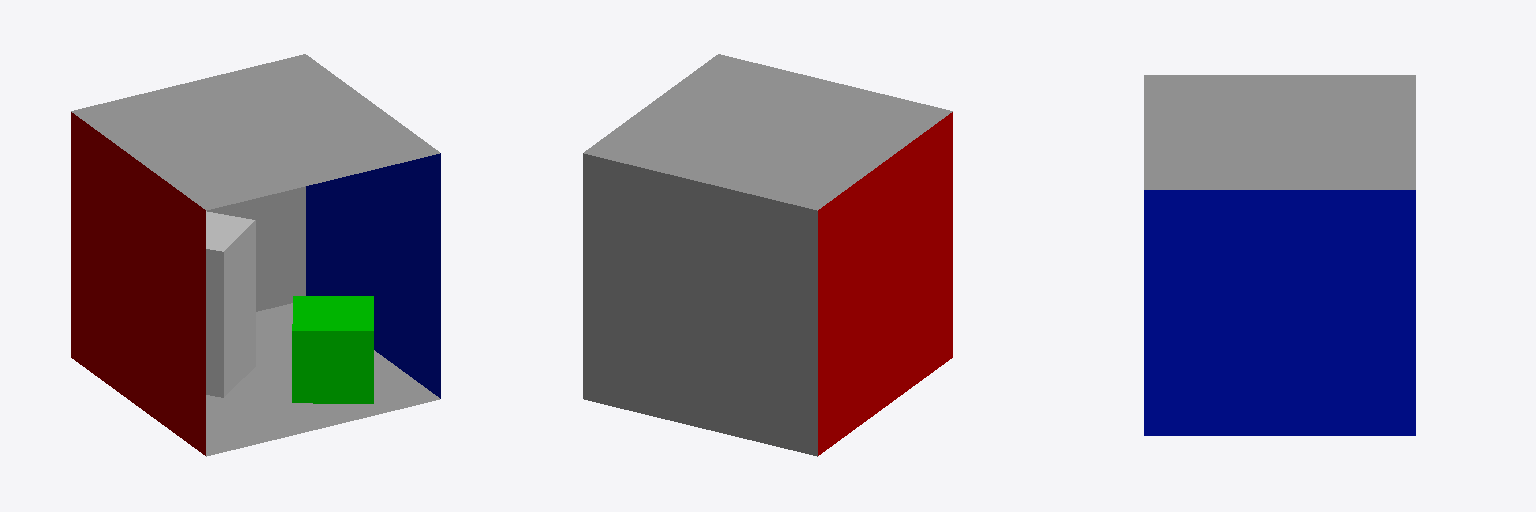
Rendered from boxes-rgb.obj.
The picture shows the model from 3 angles: view 1: azimuth 30°, elevation 25°; view 2: azimuth 150°, elevation 25°; view 3: azimuth 270°, elevation 25°; orthographic projection.
Parts seen in each view (by area): view 1: Walls, Box_small, Box_tall; view 2: Walls; view 3: Walls.
Boxes of the visible parts, <box> form: Walls: <box>71,54,440,456</box>; Box_small: <box>292,296,373,403</box>; Box_tall: <box>206,211,255,397</box>; Walls: <box>583,54,952,456</box>; Walls: <box>1144,75,1415,435</box>.
Bounding box in the file's own units: 2 × 2.01 × 2.